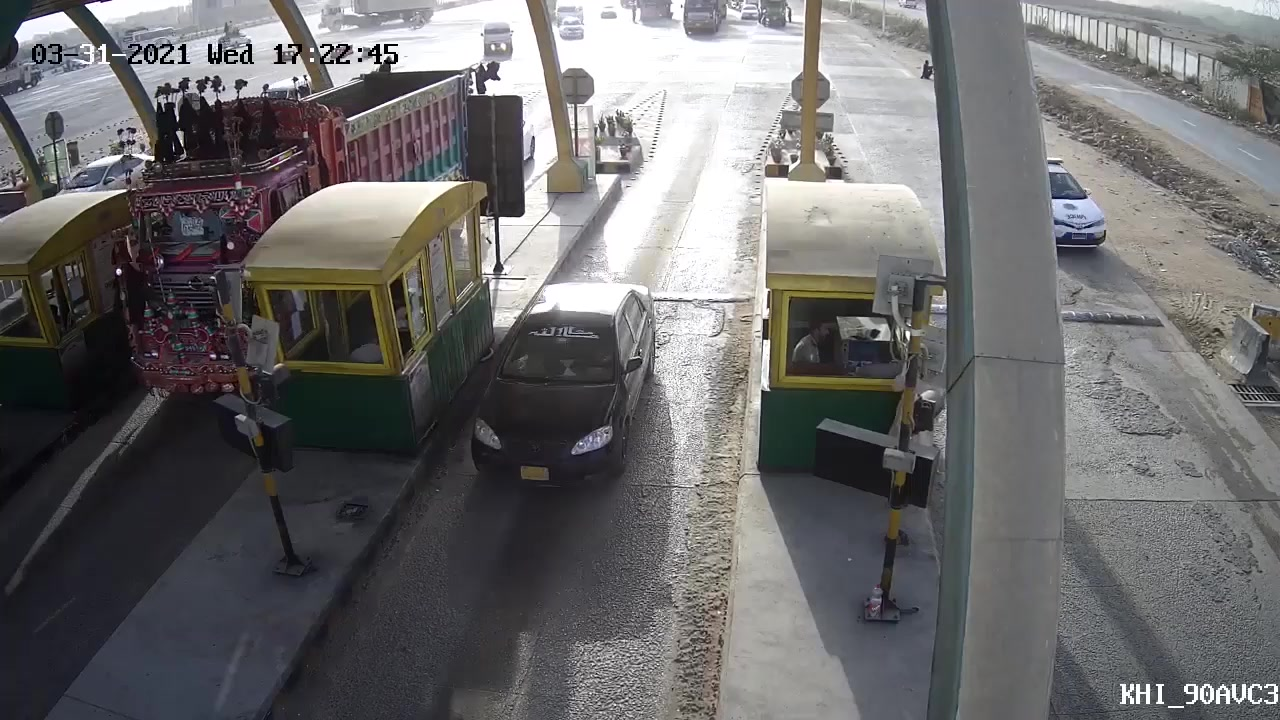F1: (443, 275, 671, 509)
